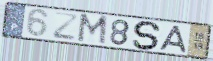6: (25, 8, 52, 40)
8: (109, 18, 131, 46)
A: (157, 24, 189, 54)
M: (76, 13, 110, 47)
S: (131, 20, 164, 51)
Z: (51, 11, 80, 42)
